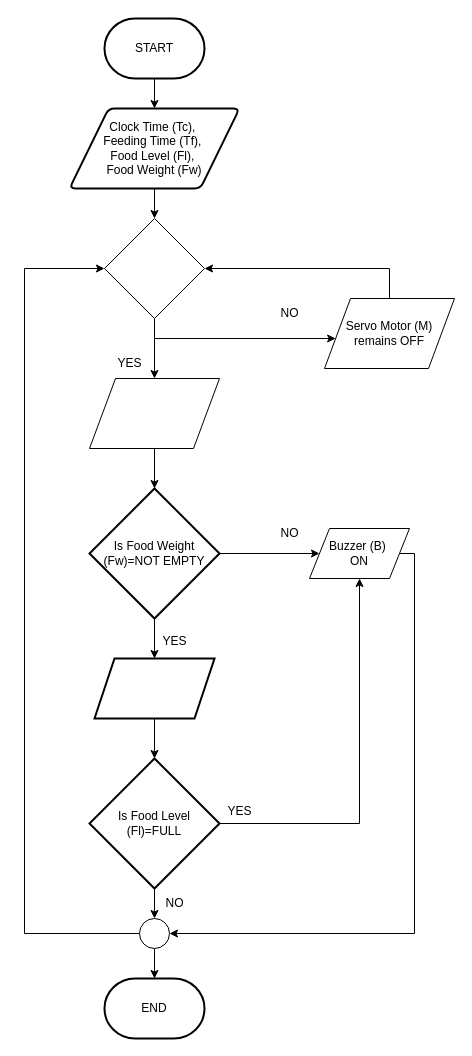
This 472x1056 diagram has some shape labels left out. The centre of each missing label's shape, as x and y in pixels:
Is it Feeding Time (Tc=Tf)?: point (154, 268)
Servo Motor (M) ON: point (154, 413)
Wait for 10 mins: point (154, 688)
